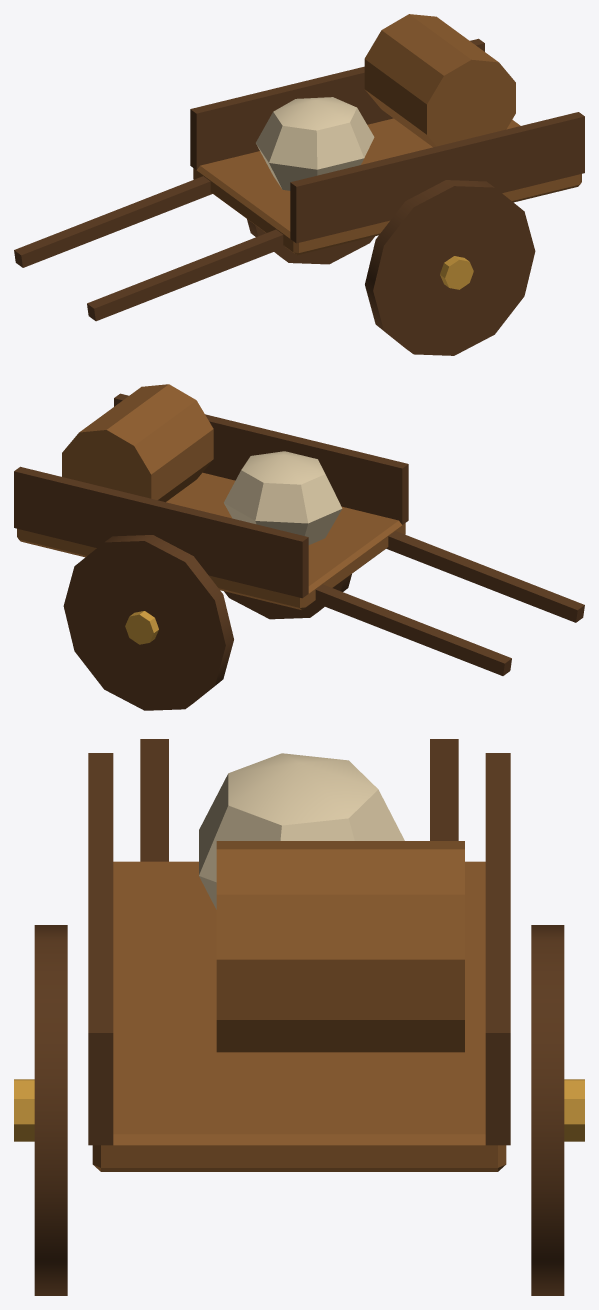
File: PR_Nature_Araba.fbx
3 views of the same model, one above another, from view 1: azimuth 30°, elevation 25°; view 2: azimuth 150°, elevation 25°; view 3: azimuth 270°, elevation 25° (orthographic). The views are drawn at different scales.
Parts seen in each view (by area): view 1: PR_Nature_Araba; view 2: PR_Nature_Araba; view 3: PR_Nature_Araba.
Part boxes in pixels (x1=…): PR_Nature_Araba: x1=14, y1=14, x2=584, y2=355; PR_Nature_Araba: x1=14, y1=384, x2=584, y2=710; PR_Nature_Araba: x1=14, y1=739, x2=584, y2=1295.
Bounding box in the file's own units: 2.65 × 1.31 × 1.38.
